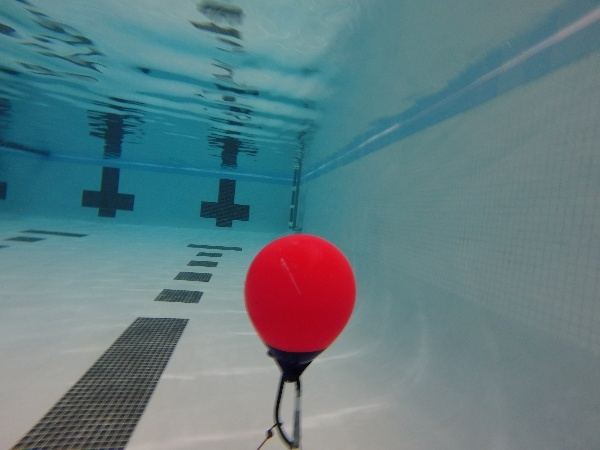buoy_red: (239, 231, 360, 384)
